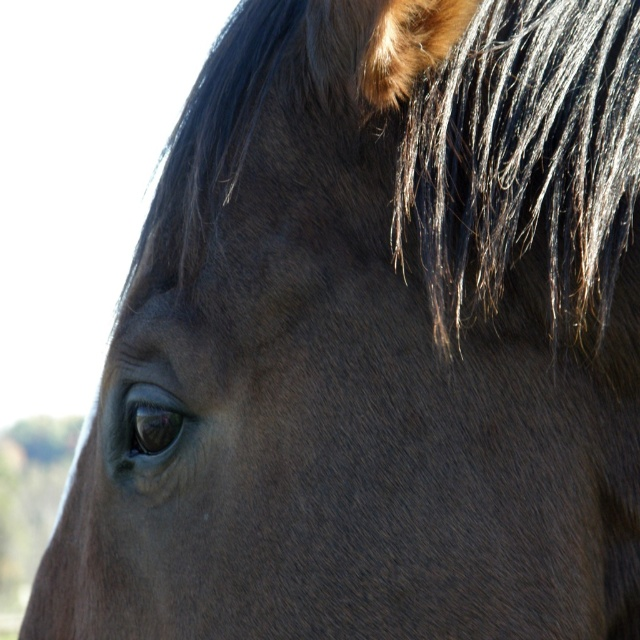Horse: (16, 0, 639, 639)
